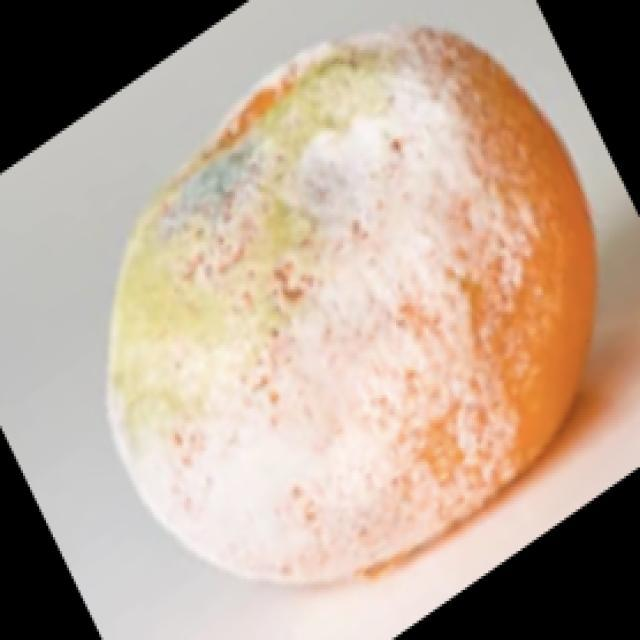sangat-busuk: (112, 47, 558, 577)
